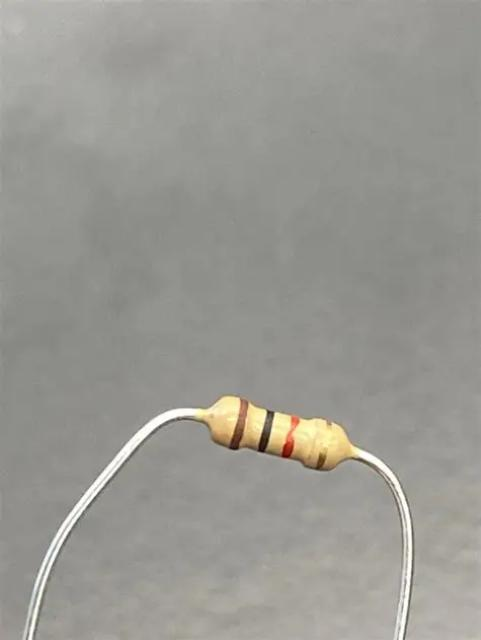black: (257, 410, 275, 453)
brown: (229, 397, 249, 451)
gold: (316, 420, 333, 471)
red: (282, 415, 301, 460)
resistor: (200, 395, 355, 473)
